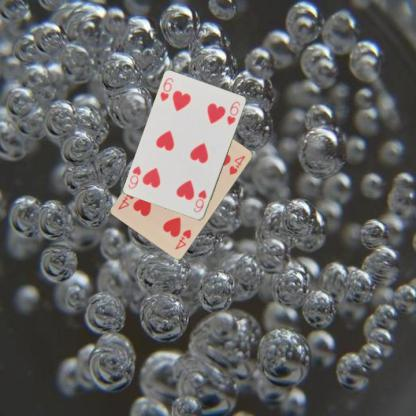4h: (172, 226, 192, 251)
6h: (191, 187, 208, 214), (158, 75, 174, 103)
